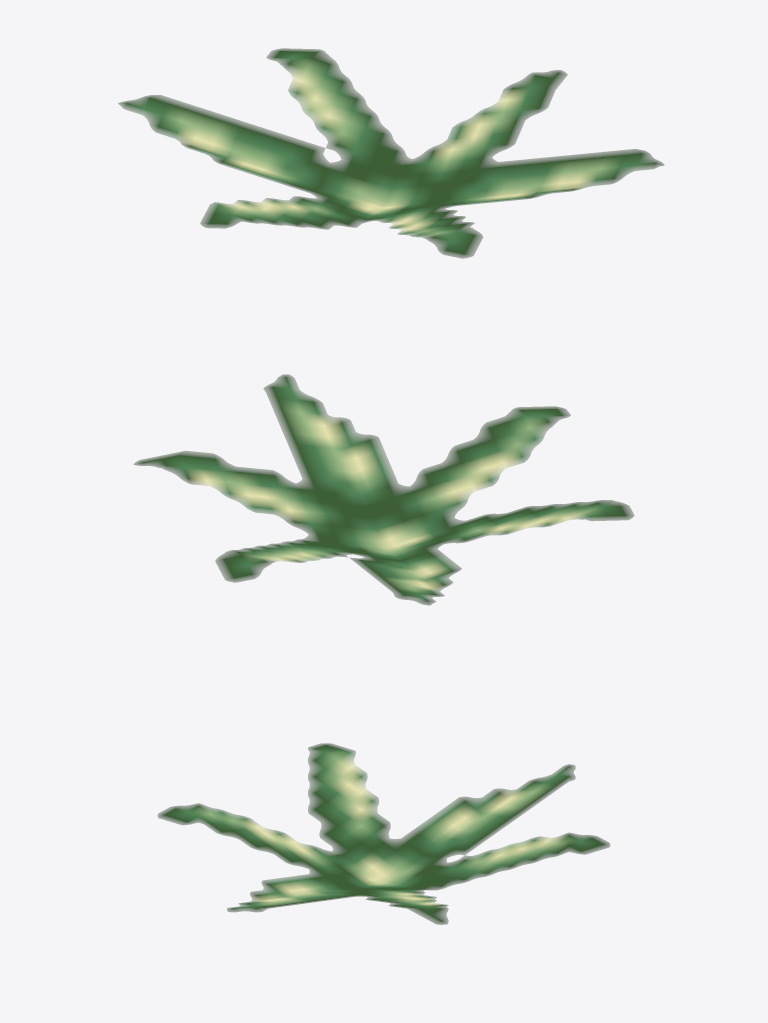
The model's file is plant_Green.fbx.
3 views of the same model, one above another, from view 1: azimuth 30°, elevation 25°; view 2: azimuth 150°, elevation 25°; view 3: azimuth 270°, elevation 25° (orthographic). The views are drawn at different scales.
Visible parts, largest first — view 1: plant_Green; view 2: plant_Green; view 3: plant_Green.
Boxes of the visible parts, x1,y1,x2,y2 form: plant_Green: (118, 48, 664, 258); plant_Green: (133, 374, 634, 605); plant_Green: (157, 743, 610, 924).
Bounding box in the file's own units: 1.41 × 0.1116 × 1.41.
